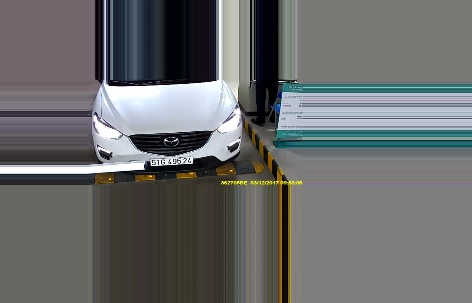plate: (150, 154, 197, 167)
